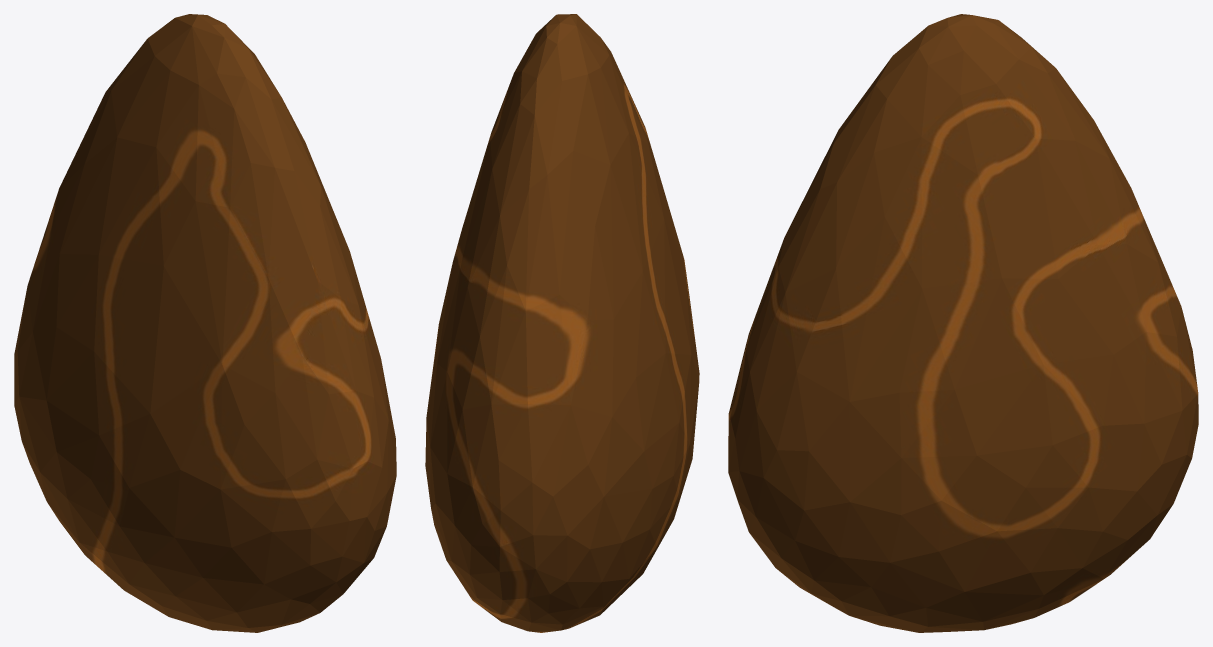
The model's file is Seed.fbx.
3 renders of one model, left to right at view 1: azimuth 30°, elevation 25°; view 2: azimuth 150°, elevation 25°; view 3: azimuth 270°, elevation 25°, orthographic. The views are drawn at different scales.
Parts seen in each view (by area): view 1: Icosphere; view 2: Icosphere; view 3: Icosphere.
Part boxes in pixels (left/top/right/bottom): Icosphere: left=14, top=14, right=396, bottom=632; Icosphere: left=425, top=14, right=699, bottom=632; Icosphere: left=728, top=14, right=1198, bottom=632.
Size of the model in its own units: 114 by 272 by 191.
Materials: 1 (1 with a texture image).
